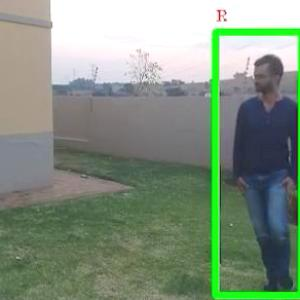follow: (221, 47, 289, 286)
